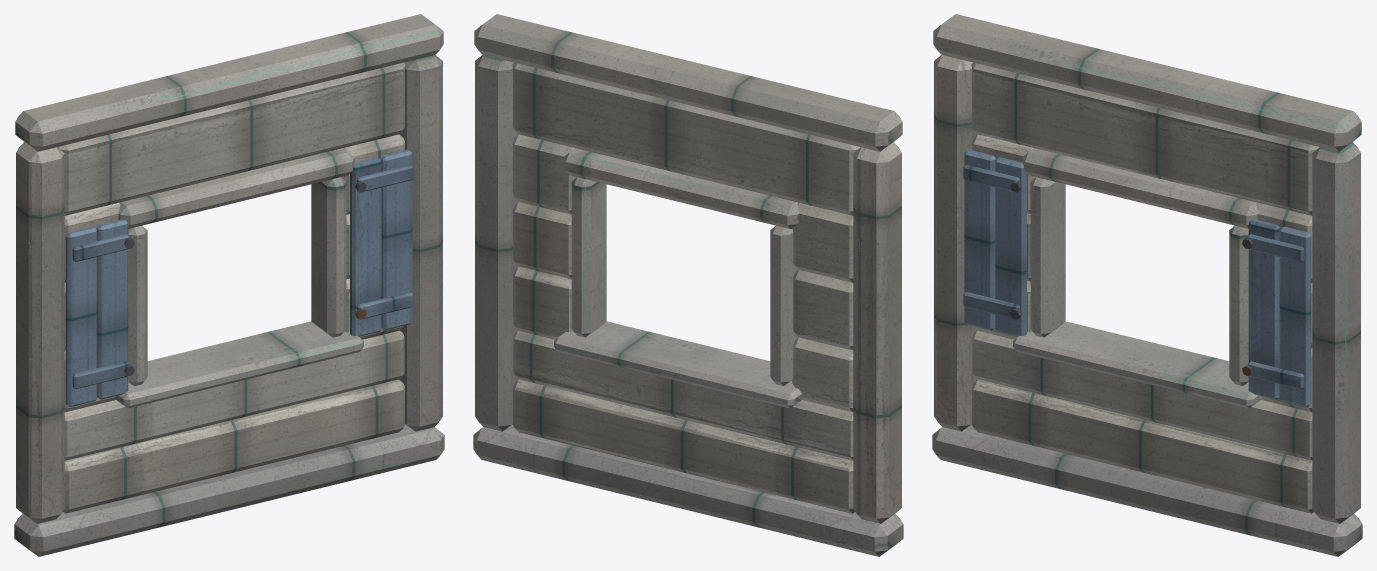
The model's file is pencereli_duvar.glb.
3 views of the same model, side by side, from view 1: azimuth 30°, elevation 25°; view 2: azimuth 150°, elevation 25°; view 3: azimuth 330°, elevation 25° (orthographic).
Parts seen in each view (by area): view 1: pencereli_duvar; view 2: pencereli_duvar; view 3: pencereli_duvar.
Boxes of the visible parts, bbox=[...] form: pencereli_duvar: bbox=[14, 14, 444, 556]; pencereli_duvar: bbox=[473, 14, 903, 556]; pencereli_duvar: bbox=[932, 14, 1362, 556].
Bounding box in the file's own units: 3 × 3.01 × 0.42.
1 material, 1 textured.
